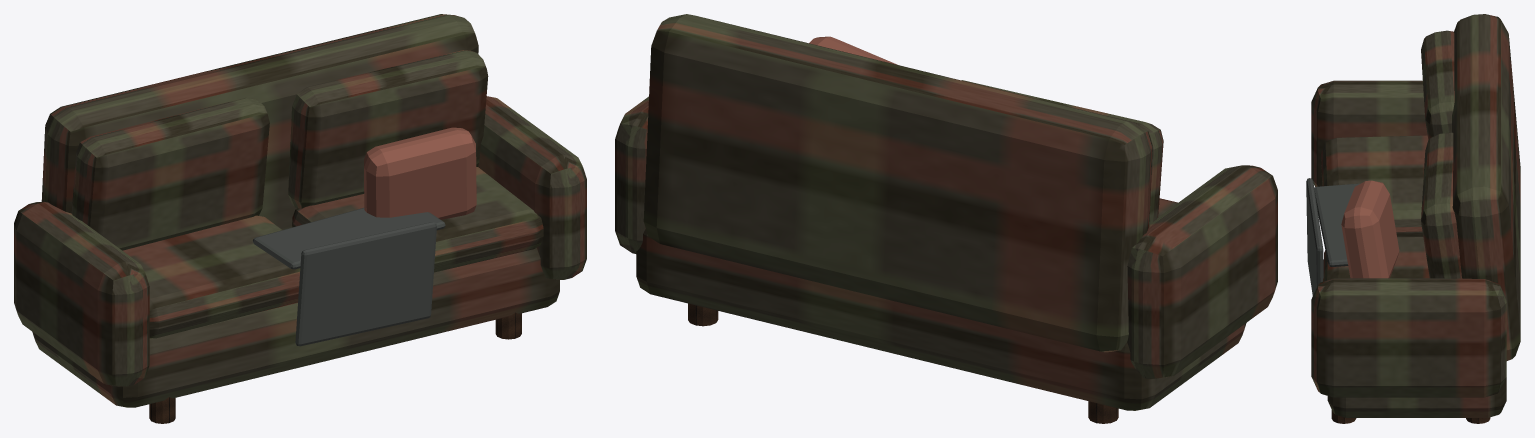
File: plaid-sofa.glb
The picture shows the model from 3 angles, left to right: view 1: azimuth 30°, elevation 25°; view 2: azimuth 150°, elevation 25°; view 3: azimuth 270°, elevation 25°; orthographic projection. The views are drawn at different scales.
Visible parts, largest first — view 1: SM_lonely_house_plaid_sofa_WornPlaid, SM_lonely_house_plaid_sofa_DarkBlanket, SM_SofaPillow, SM_lonely_house_plaid_sofa_DarkWood; view 2: SM_lonely_house_plaid_sofa_WornPlaid, SM_lonely_house_plaid_sofa_DarkWood, SM_SofaPillow; view 3: SM_lonely_house_plaid_sofa_WornPlaid, SM_SofaPillow, SM_lonely_house_plaid_sofa_DarkBlanket, SM_lonely_house_plaid_sofa_DarkWood.
Part boxes in pixels (box(x1,y1,x2,y2)): SM_lonely_house_plaid_sofa_WornPlaid: box(14, 14, 586, 407); SM_lonely_house_plaid_sofa_DarkBlanket: box(253, 208, 445, 346); SM_SofaPillow: box(364, 127, 476, 219); SM_lonely_house_plaid_sofa_DarkWood: box(149, 312, 521, 423); SM_lonely_house_plaid_sofa_WornPlaid: box(615, 14, 1277, 410); SM_lonely_house_plaid_sofa_DarkWood: box(688, 303, 1118, 423); SM_SofaPillow: box(809, 36, 897, 64); SM_lonely_house_plaid_sofa_WornPlaid: box(1311, 14, 1520, 417); SM_SofaPillow: box(1341, 180, 1399, 278); SM_lonely_house_plaid_sofa_DarkBlanket: box(1306, 178, 1360, 295); SM_lonely_house_plaid_sofa_DarkWood: box(1331, 410, 1490, 423).
Size of the model in its own units: 2.56 by 1.3 by 1.05.
Materials: 4 (2 with a texture image).
